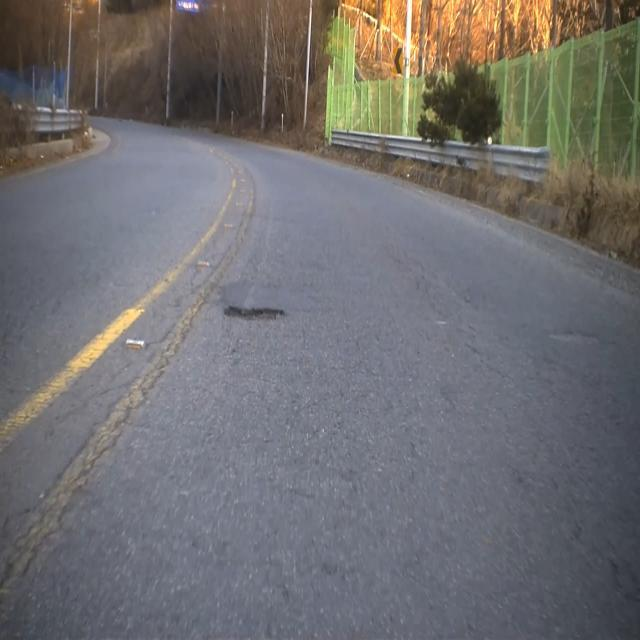Buraco: (218, 302, 292, 325)
